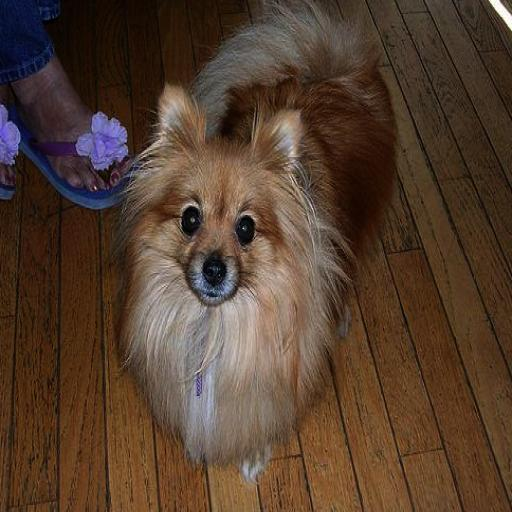dog_face: (147, 101, 299, 308)
